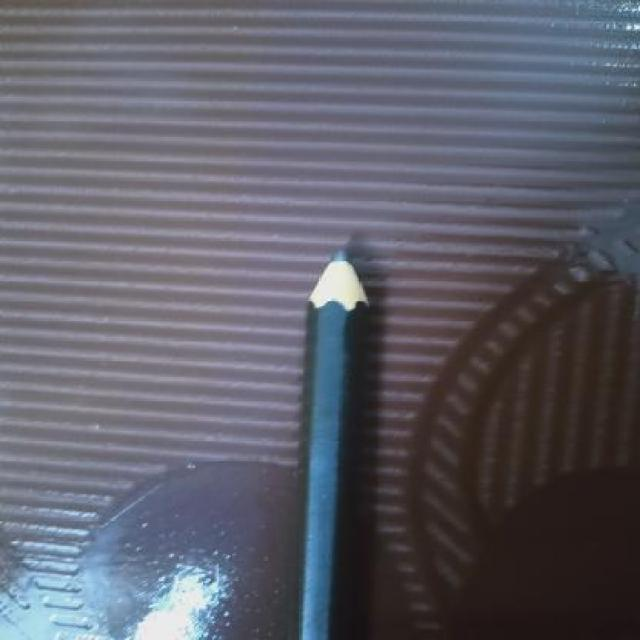pencil: (289, 241, 386, 333)
